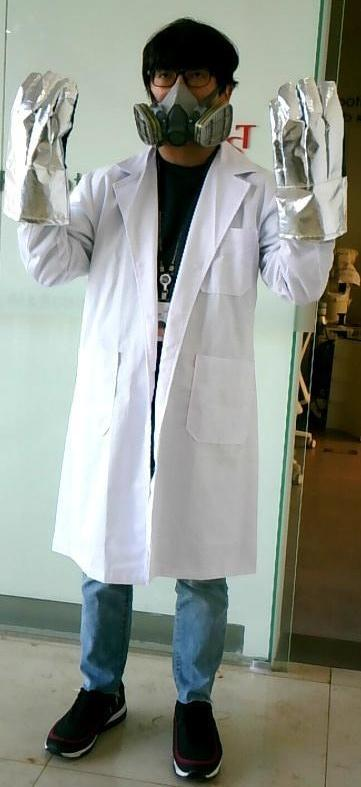lab_coat: (69, 170, 274, 577)
